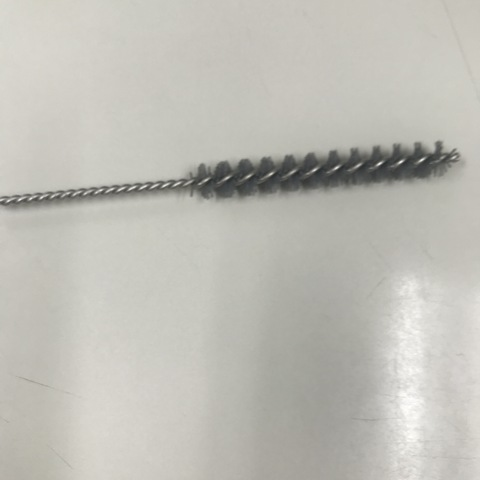Twist Brush-A: (1, 137, 463, 216)
